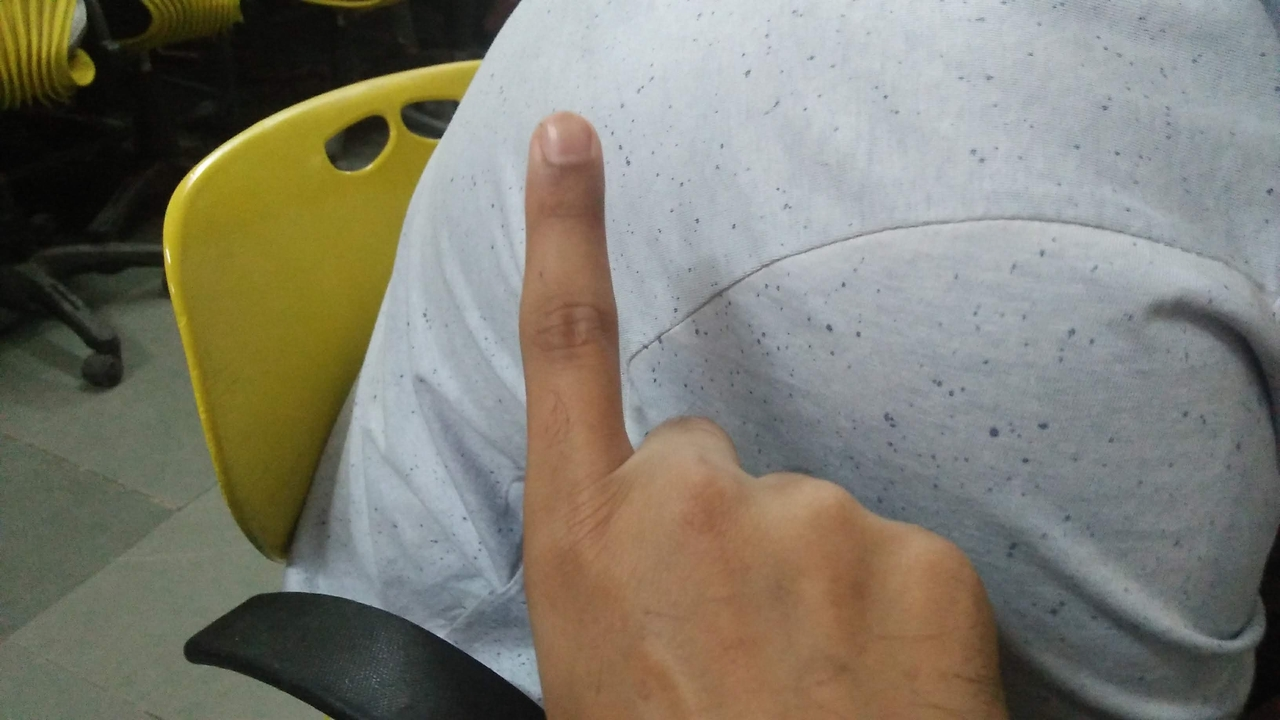fingertip: (524, 118, 604, 176)
